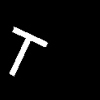half_double_crochet: (10, 27, 47, 75)
